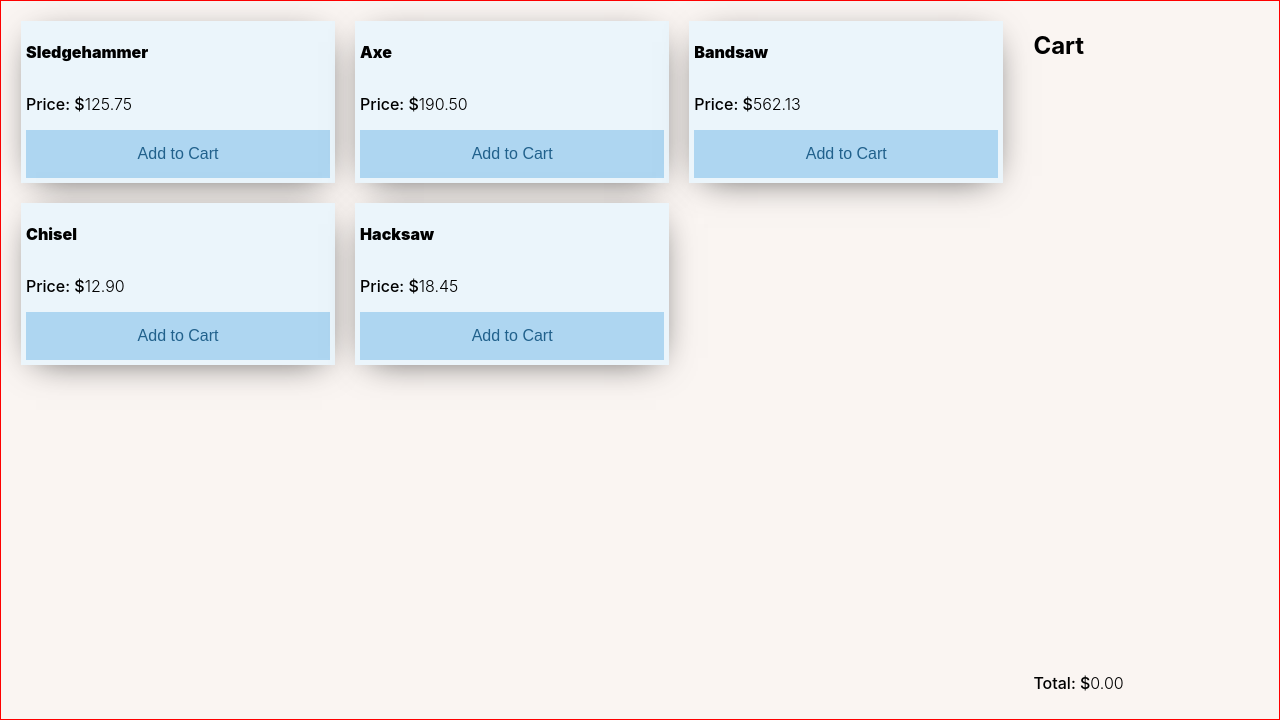
on clicking "Add to Cart" button twice it should increase quantity to 2
Click the button "Add to Cart" below "125.75".
click(178, 154)  # box [26,130,330,178]
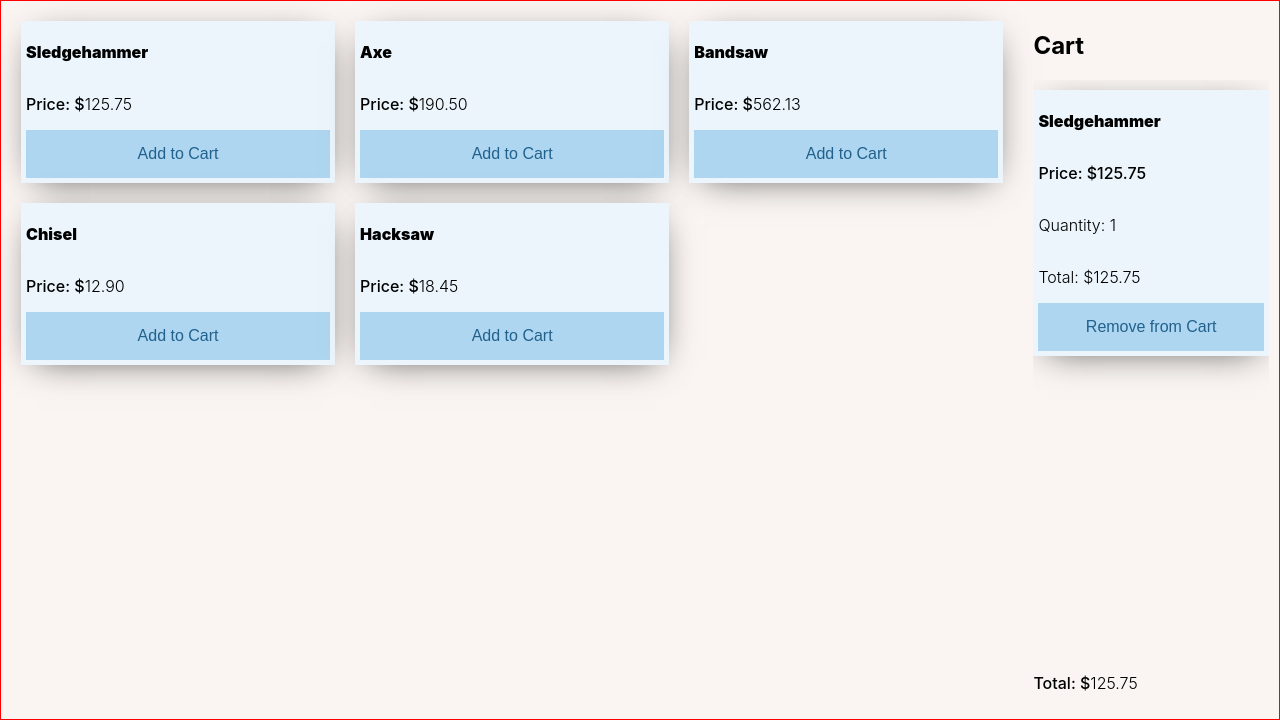
Expected: the text "Quantity: 1" is shown, [1038,215,1116,235]
Click the 1st button "Add to Cart".
click(178, 154)  # box [26,130,330,178]
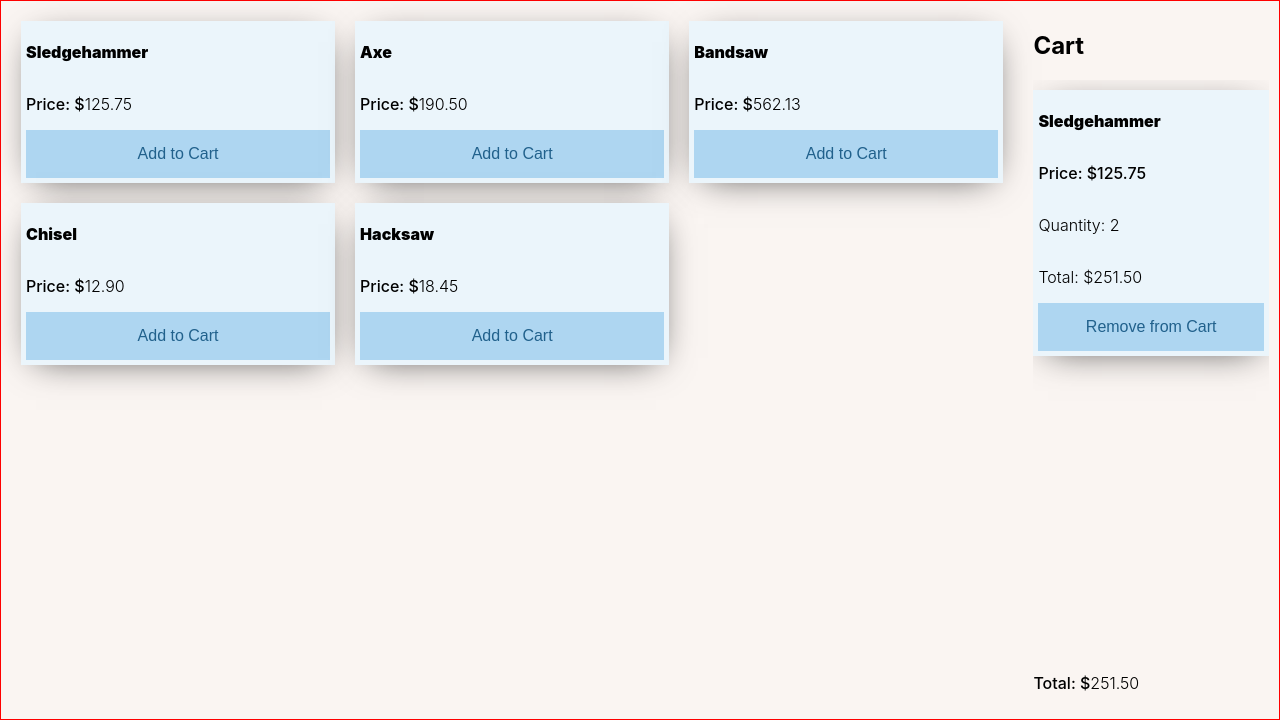
Expected: the text "Quantity: 2" is shown, [1038,215,1120,235]
